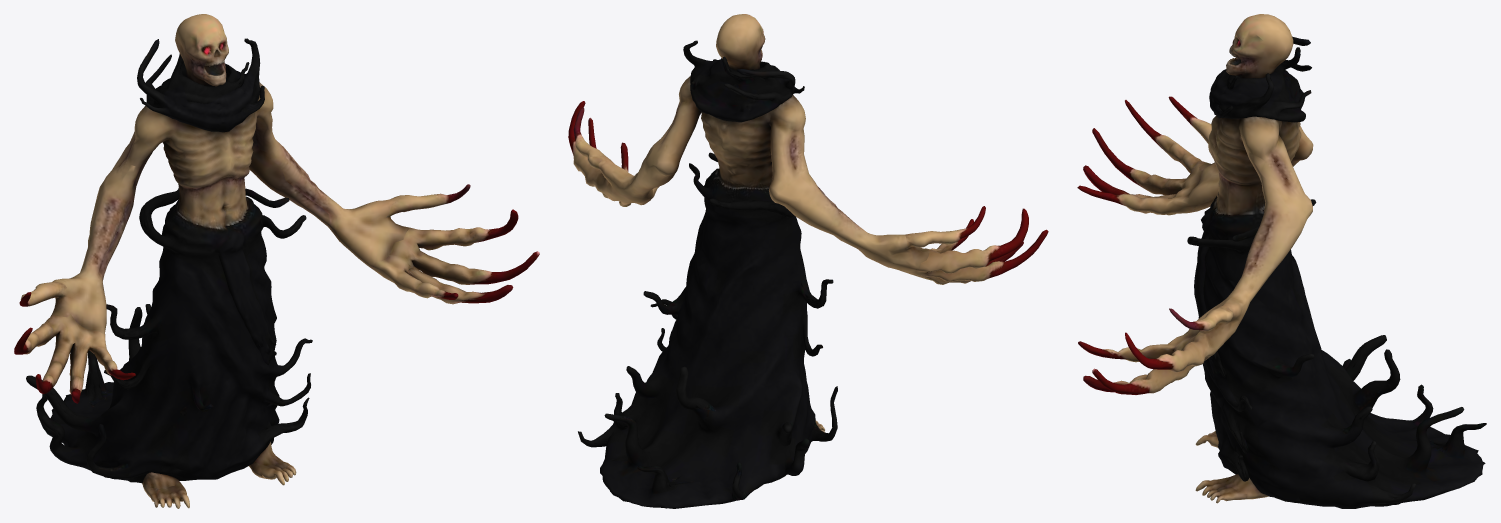
Rendered from MZ4250 - Boneclaw.glb.
3 views of the same model, side by side, from view 1: azimuth 30°, elevation 25°; view 2: azimuth 150°, elevation 25°; view 3: azimuth 270°, elevation 25° (orthographic). The views are drawn at different scales.
Parts seen in each view (by area): view 1: Body.002; view 2: Body.002; view 3: Body.002.
Boxes of the visible parts, box(x1,y1,x2,y2) form: Body.002: box(14, 14, 539, 508); Body.002: box(568, 14, 1048, 508); Body.002: box(1077, 14, 1486, 508).
Bounding box in the file's own units: 1.73 × 1.51 × 1.24.
Materials: 1 (1 with a texture image).
